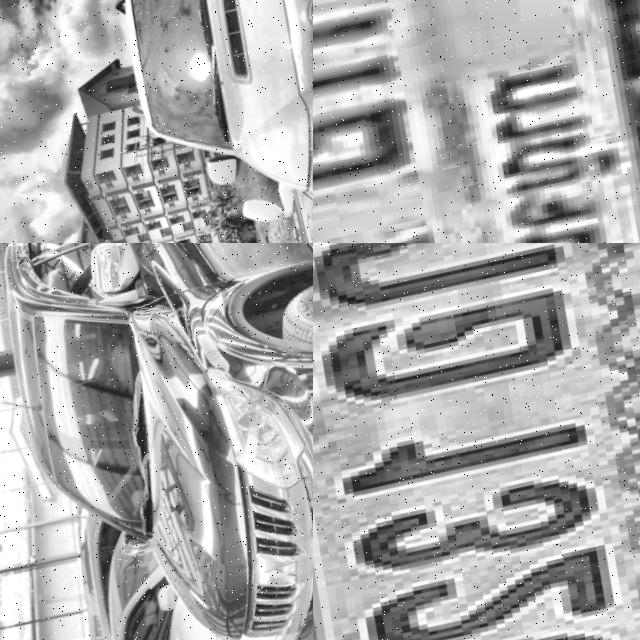license-plate: (313, 243, 640, 640), (313, 0, 640, 243)
